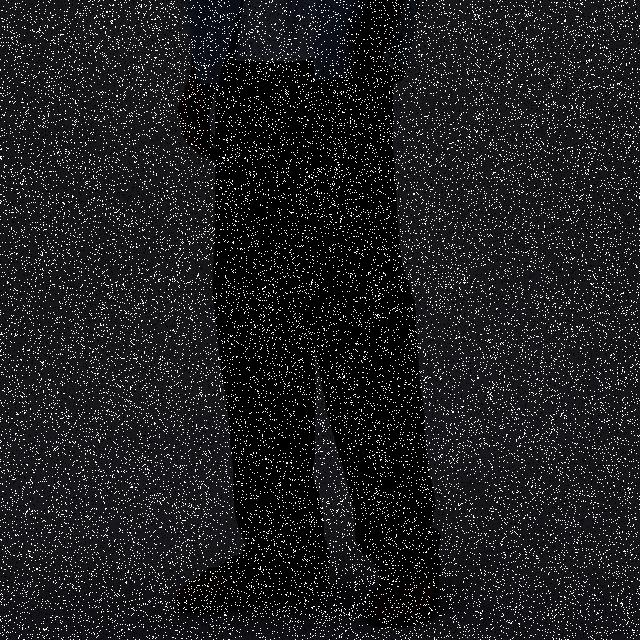dress: (202, 14, 442, 574)
